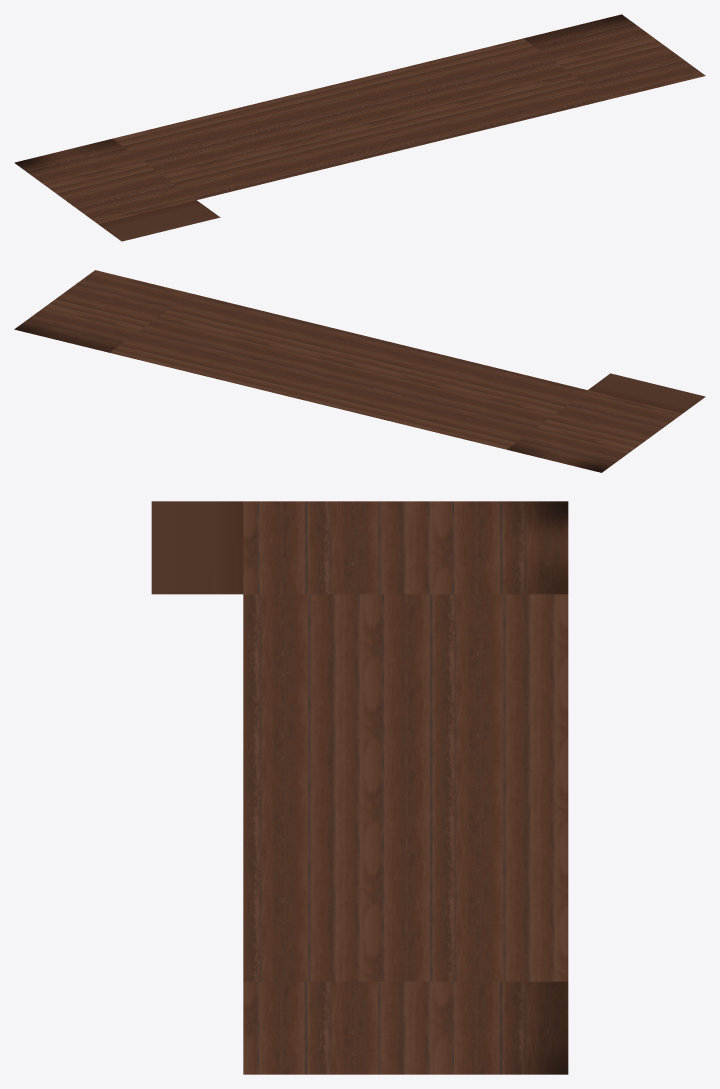
Rendered from TraditionalKoreanHouse_CellingShadowOnly.fbx.
3 renders of one model, top to bottom at view 1: azimuth 30°, elevation 25°; view 2: azimuth 150°, elevation 25°; view 3: azimuth 270°, elevation 25°, orthographic. The views are drawn at different scales.
Parts seen in each view (by area): view 1: TraditionalKoreanHouse_Ground1; view 2: TraditionalKoreanHouse_Ground1; view 3: TraditionalKoreanHouse_Ground1.
Boxes of the visible parts, x1,y1,x2,y2 form: TraditionalKoreanHouse_Ground1: (14,14,705,241); TraditionalKoreanHouse_Ground1: (14,270,705,472); TraditionalKoreanHouse_Ground1: (151,501,568,1074).
Bounding box in the file's own units: 740 × 0 × 227.
